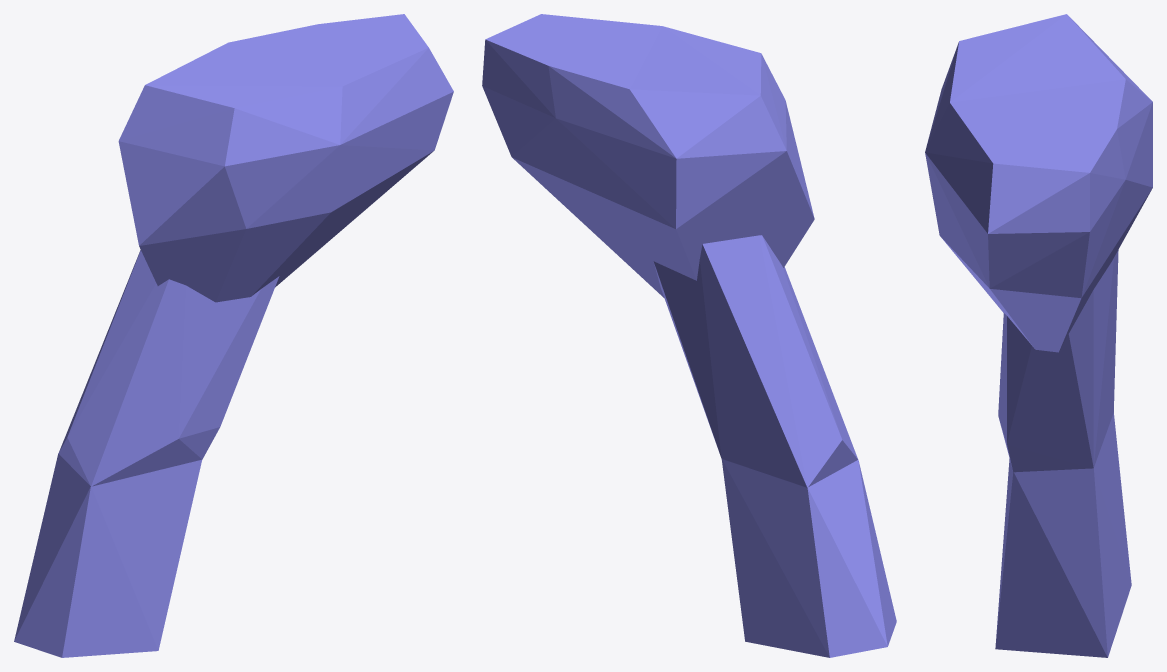
The model's file is Cliff_Spire_04_Collider_Arch_01.FBX.
3 renders of one model, left to right at view 1: azimuth 30°, elevation 25°; view 2: azimuth 150°, elevation 25°; view 3: azimuth 270°, elevation 25°, orthographic. The views are drawn at different scales.
Visible parts, largest first — view 1: COLLIDER2, COLLIDER3, COLLIDER1; view 2: COLLIDER2, COLLIDER3, COLLIDER1; view 3: COLLIDER2, COLLIDER1, COLLIDER3.
Boxes of the visible parts, x1,y1,x2,y2 form: COLLIDER2: (118, 14, 453, 302); COLLIDER3: (58, 250, 279, 486); COLLIDER1: (14, 453, 201, 657); COLLIDER2: (482, 14, 814, 297); COLLIDER3: (653, 235, 857, 487); COLLIDER1: (721, 459, 896, 657); COLLIDER2: (925, 14, 1152, 352); COLLIDER1: (995, 412, 1131, 657); COLLIDER3: (998, 250, 1118, 472).
Bounding box in the file's own units: 281 × 358 × 115.
